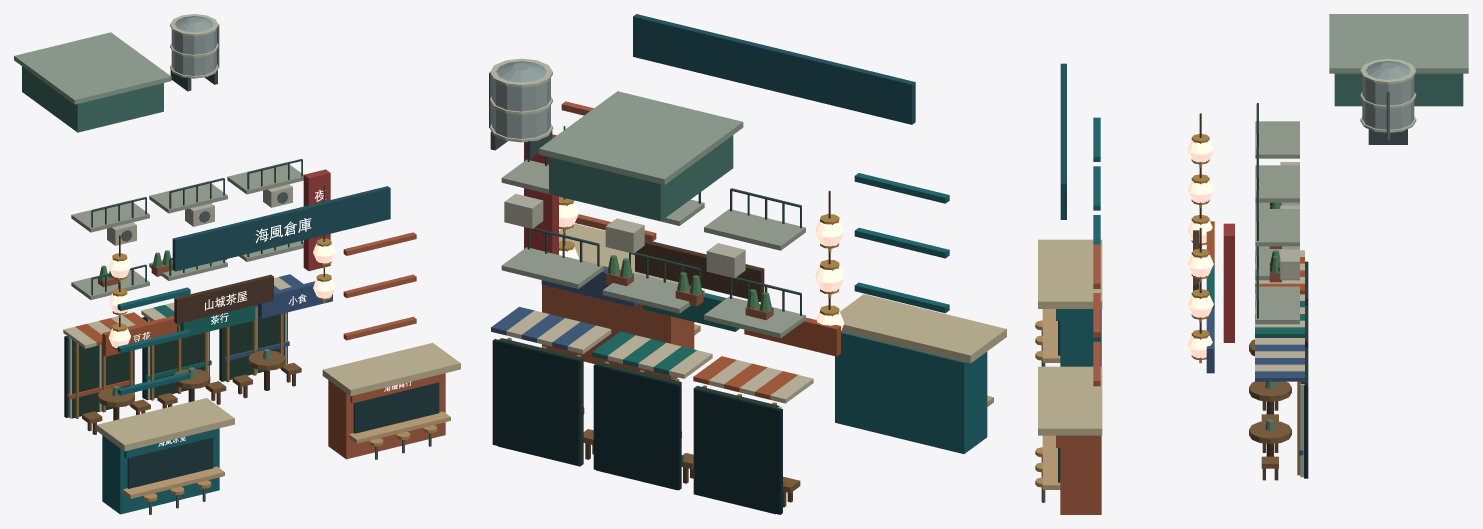
The model's file is taiwan-city-v1.glb.
3 views of the same model, side by side, from view 1: azimuth 30°, elevation 25°; view 2: azimuth 150°, elevation 25°; view 3: azimuth 270°, elevation 25° (orthographic). The views are drawn at different scales.
Visible parts, largest first — view 1: harbor_CityPaint, street_CityPaint, tea_CityPaint, tea_CityLight, harbor_CityLight; view 2: street_CityPaint, harbor_CityPaint, tea_CityPaint, tea_CityLight; view 3: street_CityPaint, harbor_CityPaint, tea_CityPaint, tea_CityLight.
Part boxes in pixels (bbox=[...]): harbor_CityPaint: bbox=[96, 186, 460, 514]; street_CityPaint: bbox=[14, 14, 332, 418]; tea_CityPaint: bbox=[71, 185, 331, 434]; tea_CityLight: bbox=[108, 243, 335, 347]; harbor_CityLight: bbox=[158, 218, 411, 446]; street_CityPaint: bbox=[489, 58, 840, 514]; harbor_CityPaint: bbox=[542, 14, 1006, 453]; tea_CityPaint: bbox=[498, 126, 839, 514]; tea_CityLight: bbox=[559, 201, 844, 330]; street_CityPaint: bbox=[1206, 14, 1468, 478]; harbor_CityPaint: bbox=[1035, 63, 1102, 514]; tea_CityPaint: bbox=[1191, 113, 1307, 480]; tea_CityLight: bbox=[1187, 140, 1213, 358].
Size of the model in its own units: 12.5 by 11.98 by 12.13.
